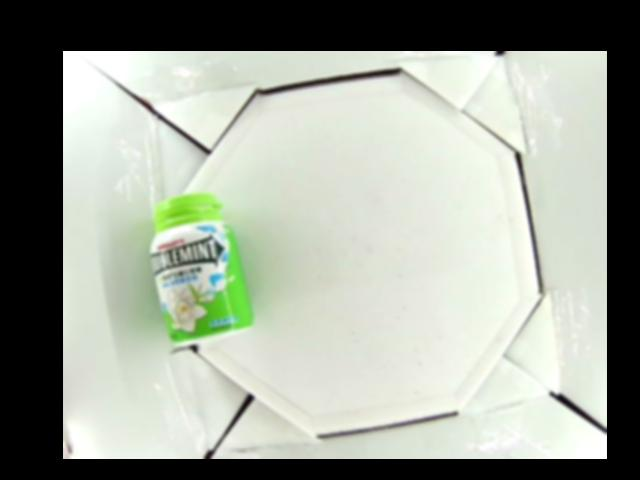Bottle: (148, 195, 252, 349)
